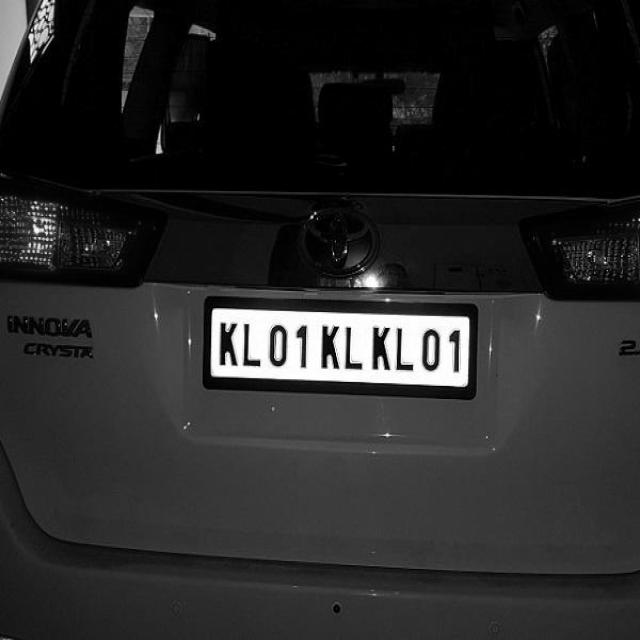license-plate: (207, 303, 476, 403)
